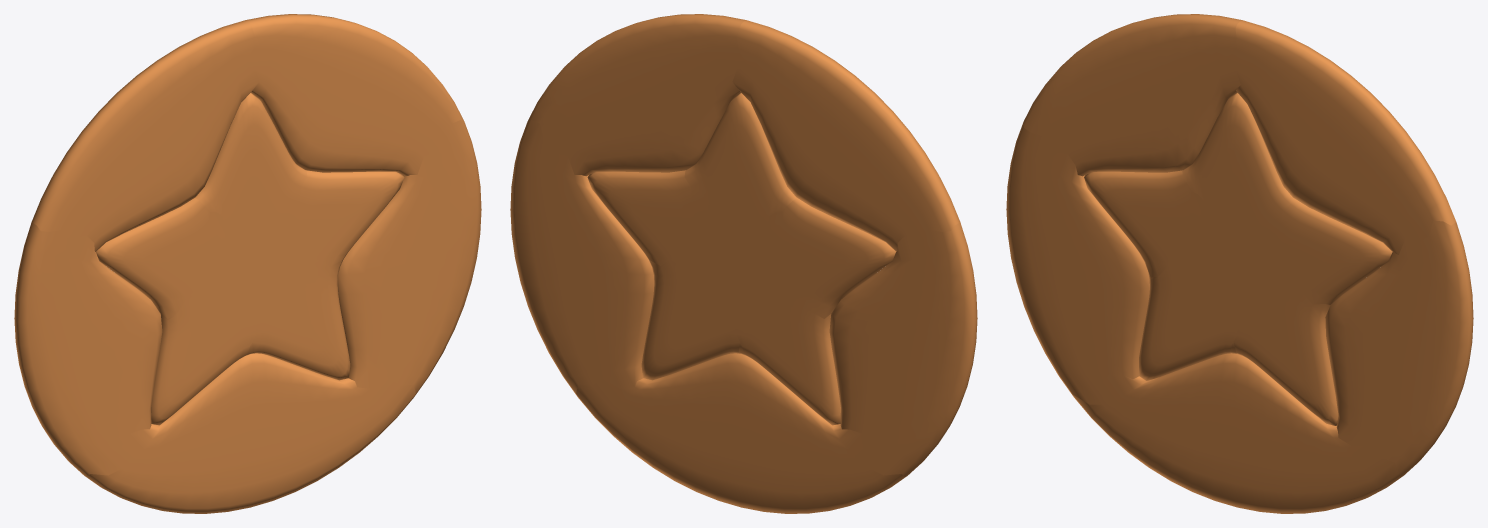
Rendered from candy3.fbx.
3 views of the same model, side by side, from view 1: azimuth 30°, elevation 25°; view 2: azimuth 150°, elevation 25°; view 3: azimuth 330°, elevation 25° (orthographic).
Visible parts, largest first — view 1: Цилиндр.020, Цилиндр, Цилиндр.021, Цилиндр.018, Цилиндр.019, Цилиндр.007, Цилиндр.003, Цилиндр.005, Цилиндр.006, Цилиндр.004; view 2: Цилиндр.020, Цилиндр, Цилиндр.021, Цилиндр.018, Цилиндр.019, Цилиндр.007, Цилиндр.003, Цилиндр.005, Цилиндр.006, Цилиндр.004; view 3: Цилиндр.020, Цилиндр.018, Цилиндр.019, Цилиндр, Цилиндр.021, Цилиндр.003, Цилиндр.007, Цилиндр.005, Цилиндр.004, Цилиндр.006.
Part boxes in pixels (x1=…): Цилиндр.020: x1=85, y1=353, x2=415, y2=513; Цилиндр: x1=31, y1=20, x2=259, y2=251; Цилиндр.021: x1=14, y1=222, x2=162, y2=476; Цилиндр.018: x1=245, y1=14, x2=463, y2=176; Цилиндр.019: x1=337, y1=120, x2=481, y2=396; Цилиндр.007: x1=96, y1=198, x2=252, y2=318; Цилиндр.003: x1=195, y1=93, x2=307, y2=272; Цилиндр.005: x1=251, y1=260, x2=350, y2=380; Цилиндр.006: x1=151, y1=273, x2=257, y2=425; Цилиндр.004: x1=253, y1=170, x2=404, y2=273; Цилиндр.020: x1=576, y1=353, x2=906, y2=513; Цилиндр: x1=732, y1=20, x2=960, y2=251; Цилиндр.021: x1=829, y1=222, x2=977, y2=476; Цилиндр.018: x1=528, y1=14, x2=746, y2=176; Цилиндр.019: x1=510, y1=120, x2=654, y2=396; Цилиндр.007: x1=739, y1=198, x2=895, y2=318; Цилиндр.003: x1=684, y1=93, x2=796, y2=272; Цилиндр.005: x1=641, y1=260, x2=740, y2=380; Цилиндр.006: x1=734, y1=273, x2=840, y2=425; Цилиндр.004: x1=587, y1=170, x2=738, y2=273; Цилиндр.020: x1=1073, y1=353, x2=1402, y2=513; Цилиндр.018: x1=1226, y1=20, x2=1456, y2=254; Цилиндр.019: x1=1325, y1=220, x2=1473, y2=476; Цилиндр: x1=1023, y1=14, x2=1242, y2=176; Цилиндр.021: x1=1006, y1=122, x2=1149, y2=404; Цилиндр.003: x1=1182, y1=93, x2=1293, y2=272; Цилиндр.007: x1=1084, y1=170, x2=1233, y2=277; Цилиндр.005: x1=1233, y1=273, x2=1338, y2=425; Цилиндр.004: x1=1234, y1=198, x2=1392, y2=304; Цилиндр.006: x1=1139, y1=266, x2=1238, y2=380.
Size of the model in its own units: 597 by 597 by 24.27.
